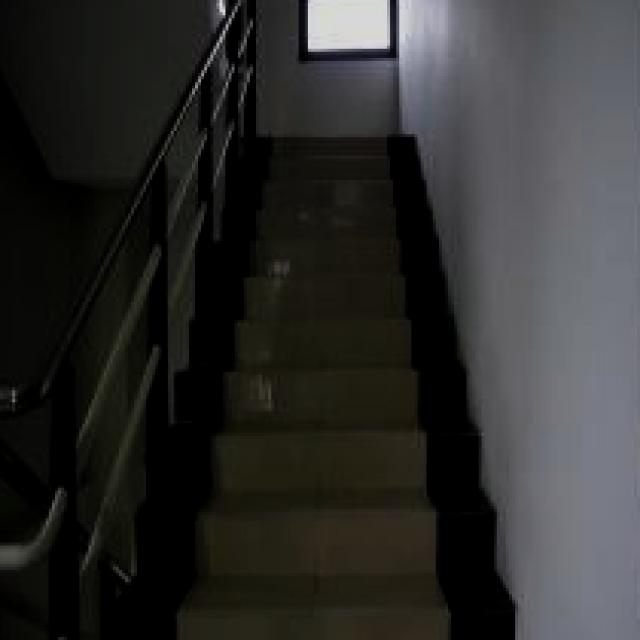upstair: (251, 144, 467, 640)
